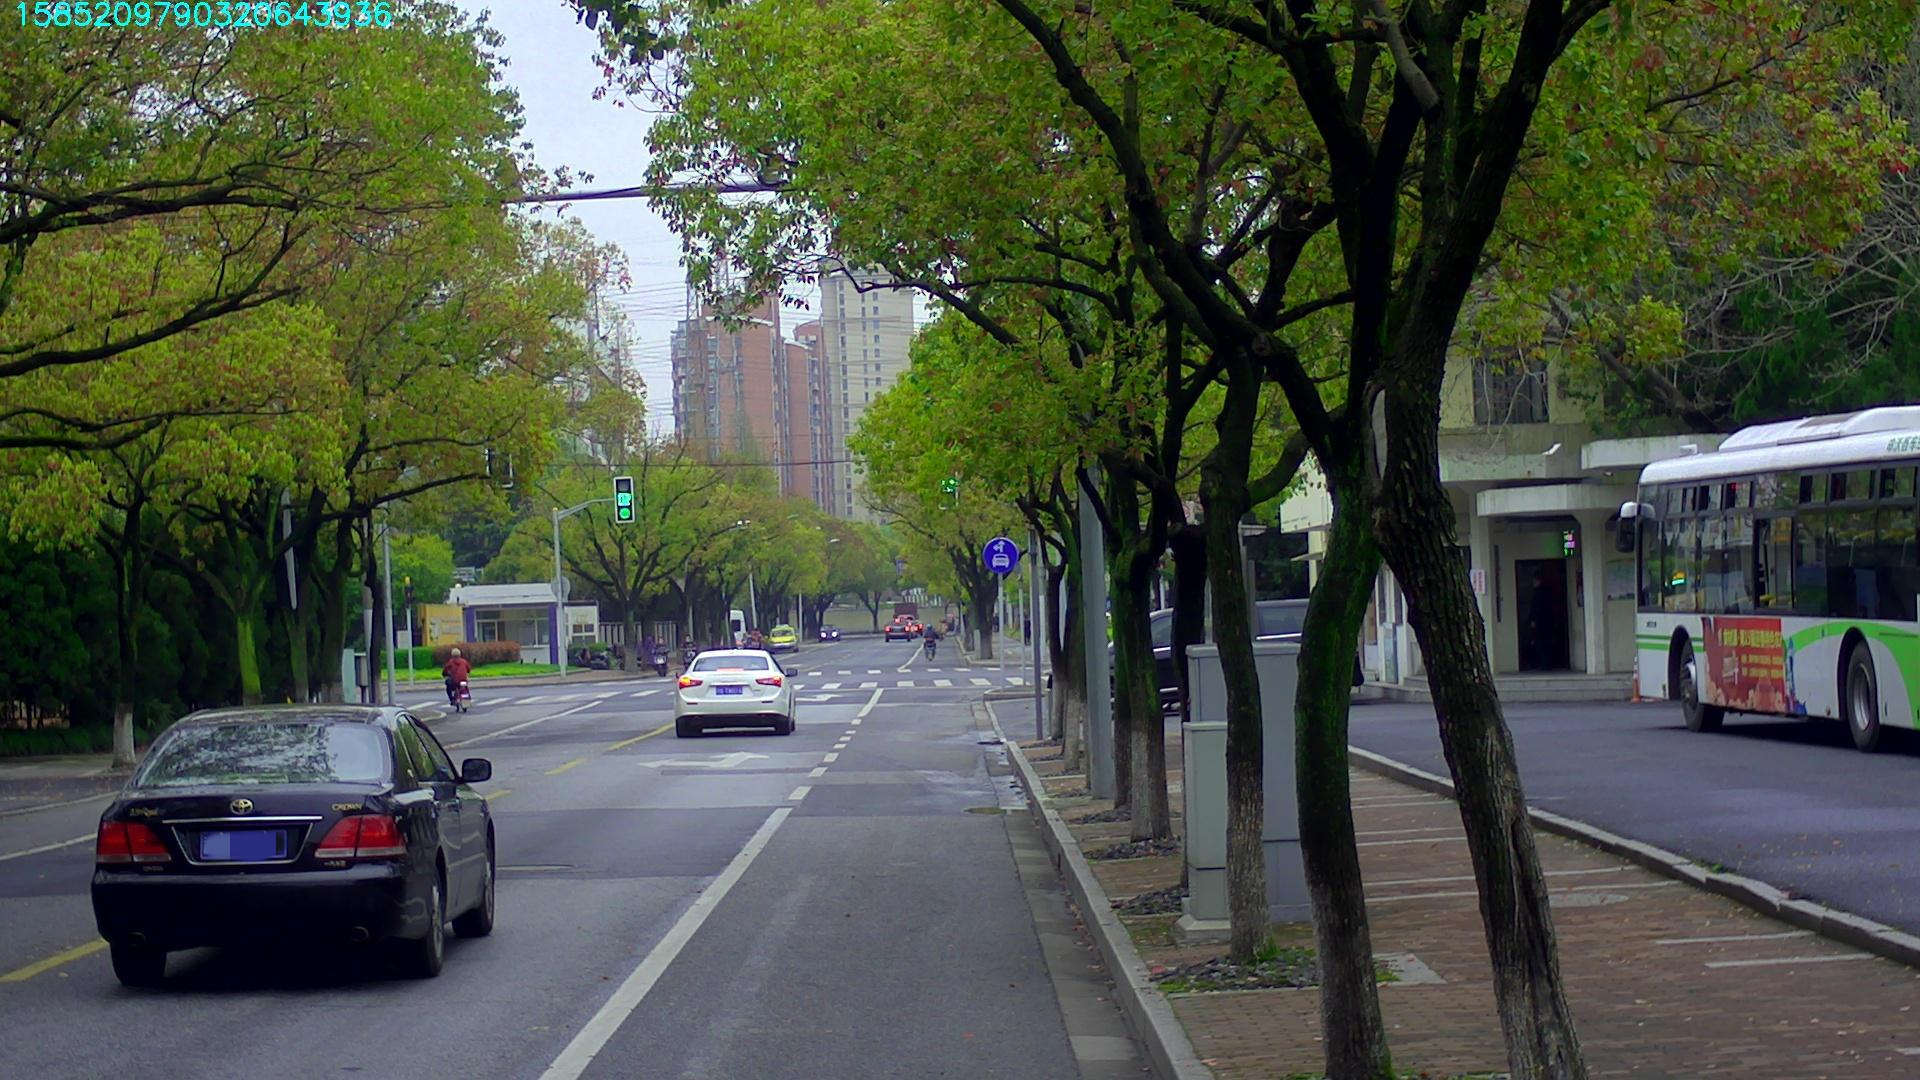green: (616, 477, 633, 521), (942, 476, 956, 506)
